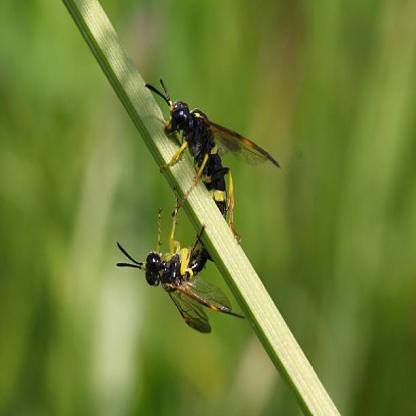sawfly: (139, 70, 285, 240), (115, 200, 249, 338)
